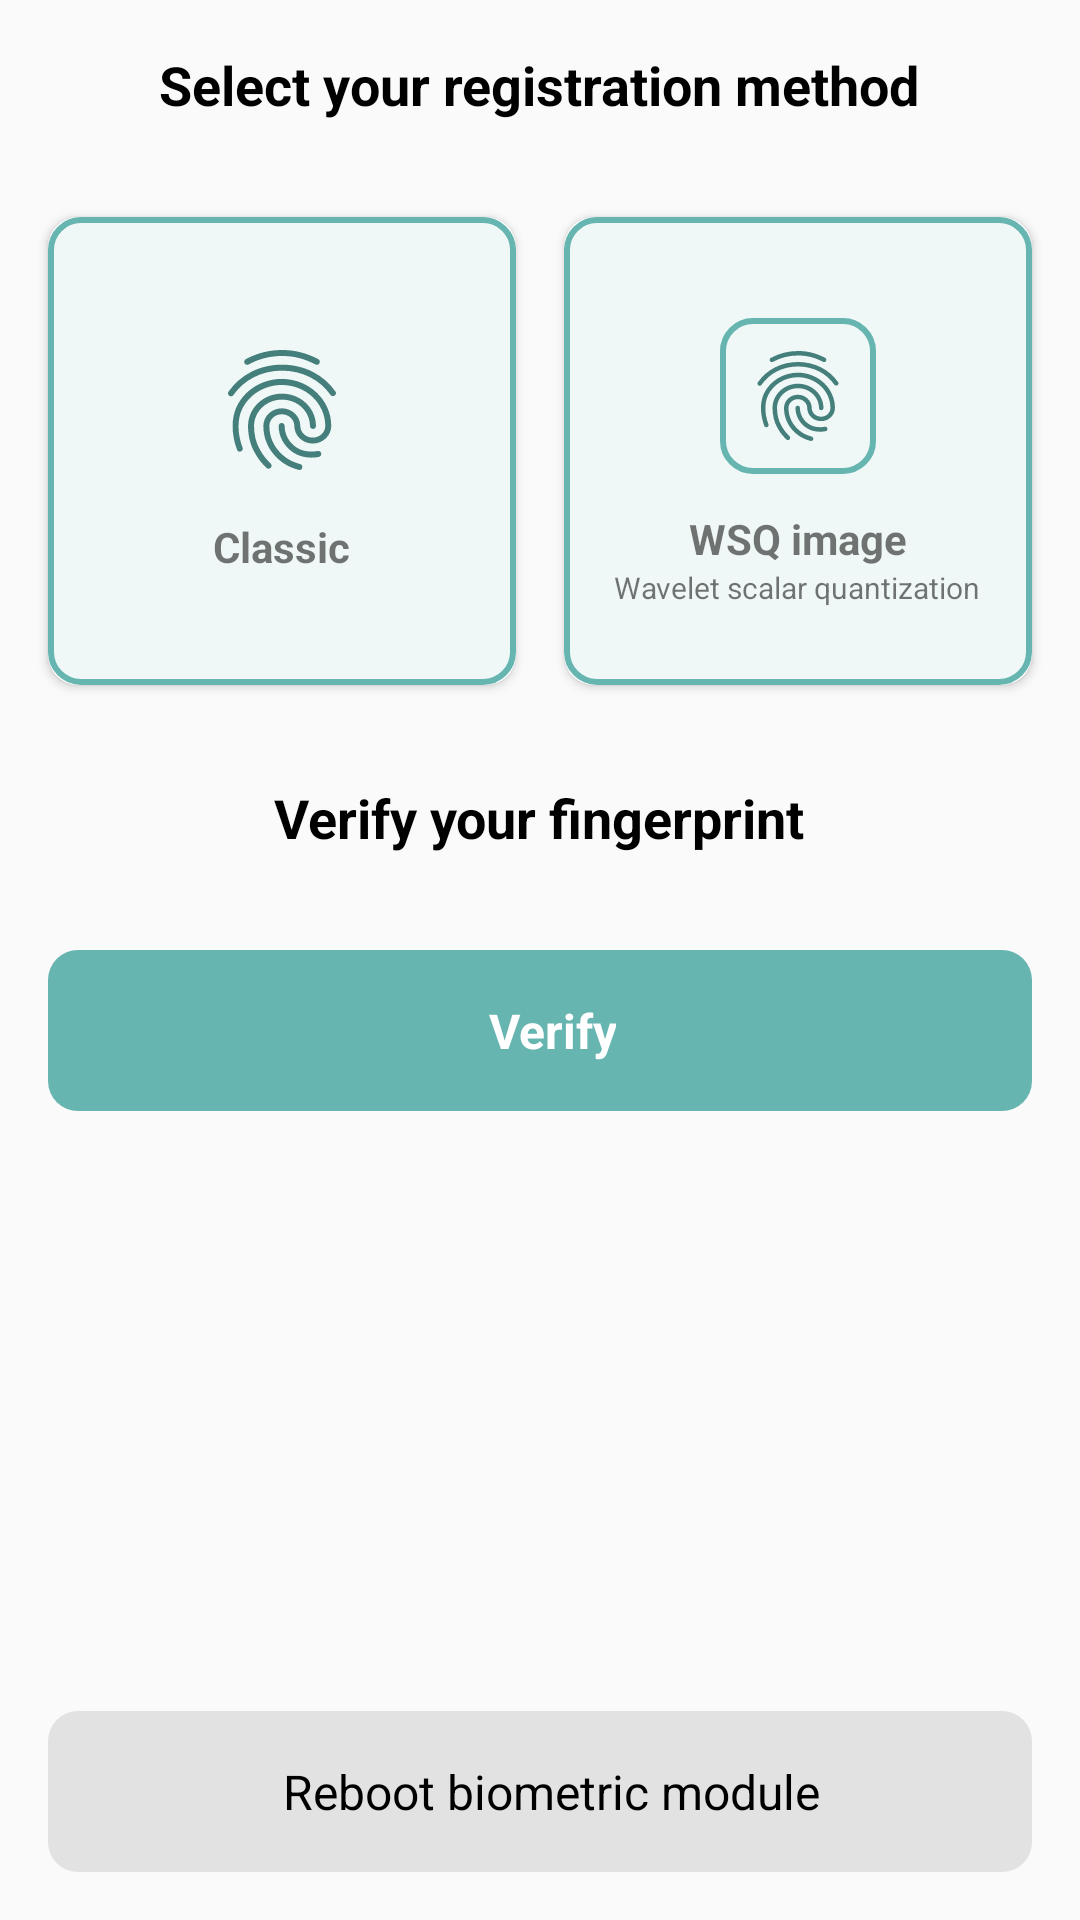

Where icons sit on this 1080 × 1920 app screen, as region(x1, y1, x2, y2):
fingerprint: region(228, 350, 336, 470)
fingerprint with stroke: region(720, 318, 876, 474)
